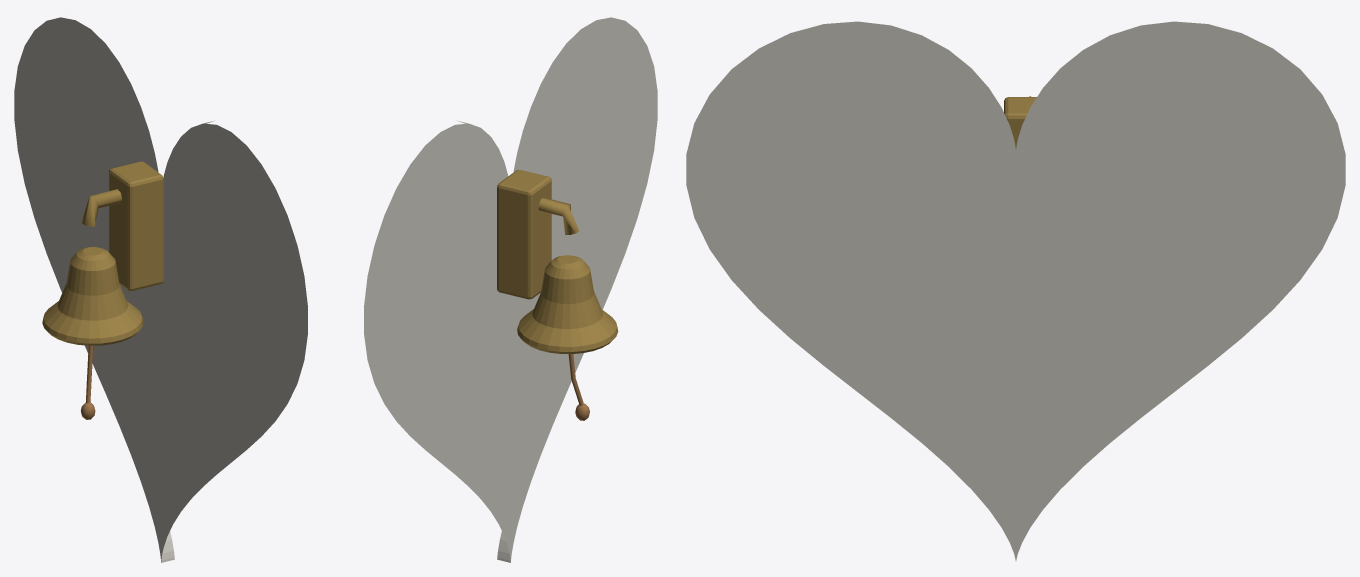
File: heart.glb
The picture shows the model from 3 angles, left to right: view 1: azimuth 30°, elevation 25°; view 2: azimuth 150°, elevation 25°; view 3: azimuth 270°, elevation 25°; orthographic projection. The views are drawn at different scales.
Parts seen in each view (by area): view 1: G010_heart; view 2: G010_heart; view 3: G010_heart.
Boxes of the visible parts, left/top/right/bottom form: G010_heart: left=14, top=17, right=307, bottom=562; G010_heart: left=364, top=17, right=657, bottom=562; G010_heart: left=686, top=21, right=1345, bottom=560.
Size of the model in its own units: 0.219 by 0.8405 by 0.9272.
